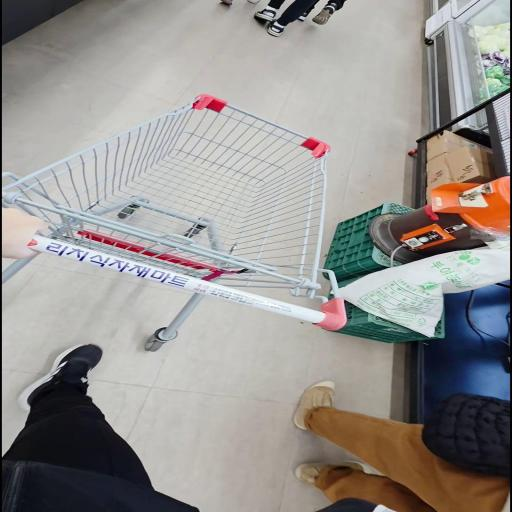empty_cart: (2, 93, 350, 351)
